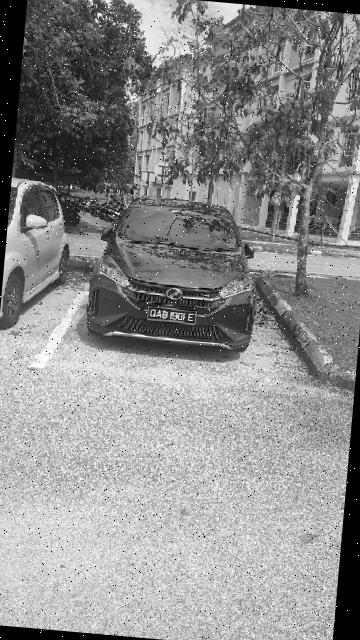License_Plate: (146, 304, 200, 328)
car: (80, 187, 267, 360)
